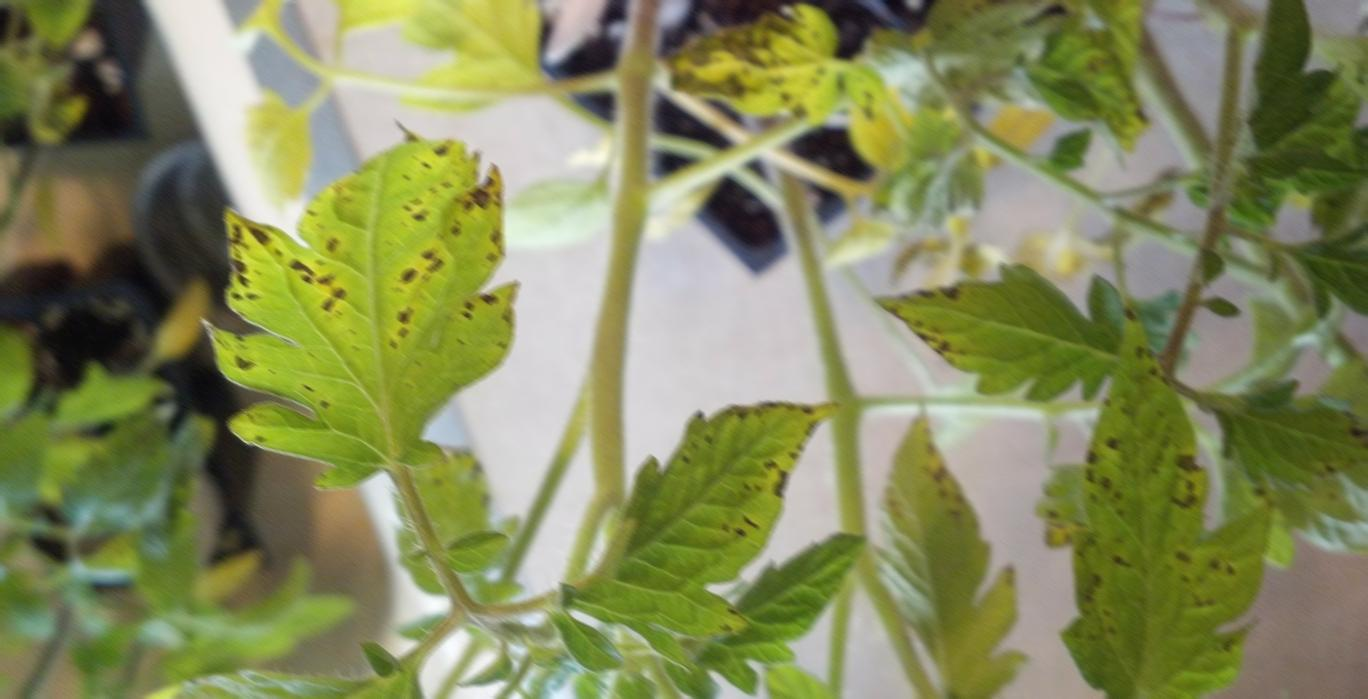Tomato Septoria leaf spot: (208, 86, 530, 464), (1047, 282, 1283, 699), (544, 394, 863, 655), (861, 235, 1168, 405), (651, 0, 861, 139)
